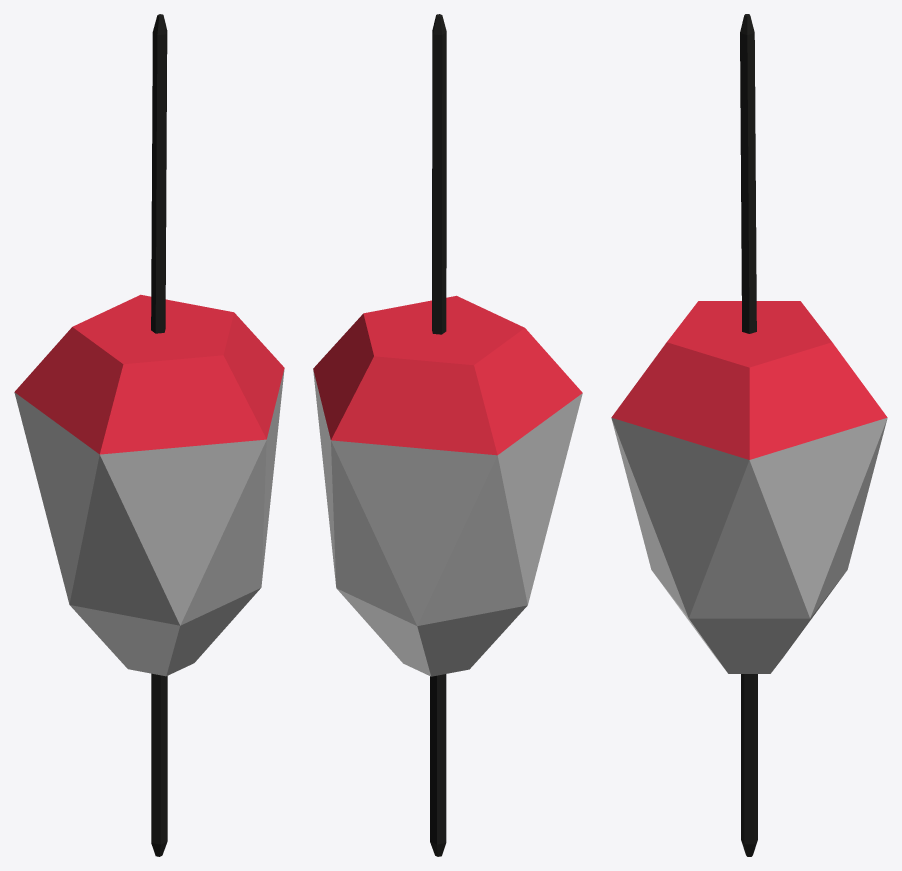
The model's file is fishing_float.glb.
3 views of the same model, side by side, from view 1: azimuth 30°, elevation 25°; view 2: azimuth 150°, elevation 25°; view 3: azimuth 270°, elevation 25° (orthographic).
Visible parts, largest first — view 1: fishing_float-col; view 2: fishing_float-col; view 3: fishing_float-col.
Part boxes in pixels (box(x1,y1,x2,y2)): fishing_float-col: box(14, 14, 284, 856); fishing_float-col: box(313, 14, 582, 856); fishing_float-col: box(611, 14, 887, 856).
Bounding box in the file's own units: 0.38 × 1.34 × 0.3995.
